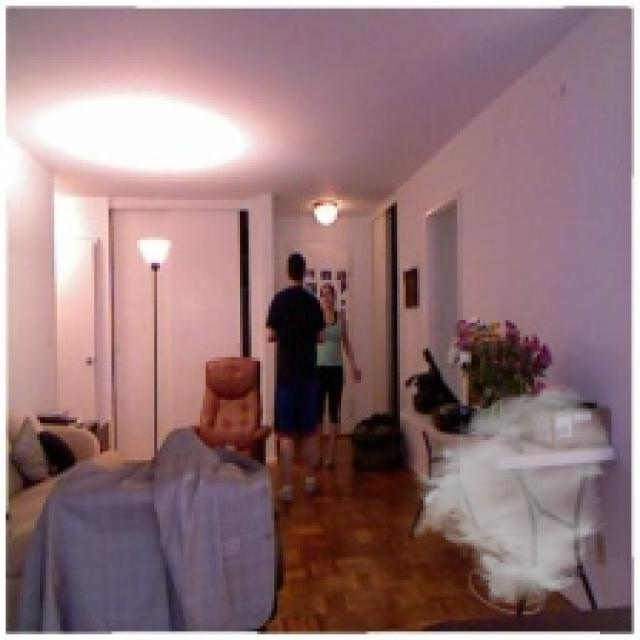smoke: (409, 383, 614, 608)
